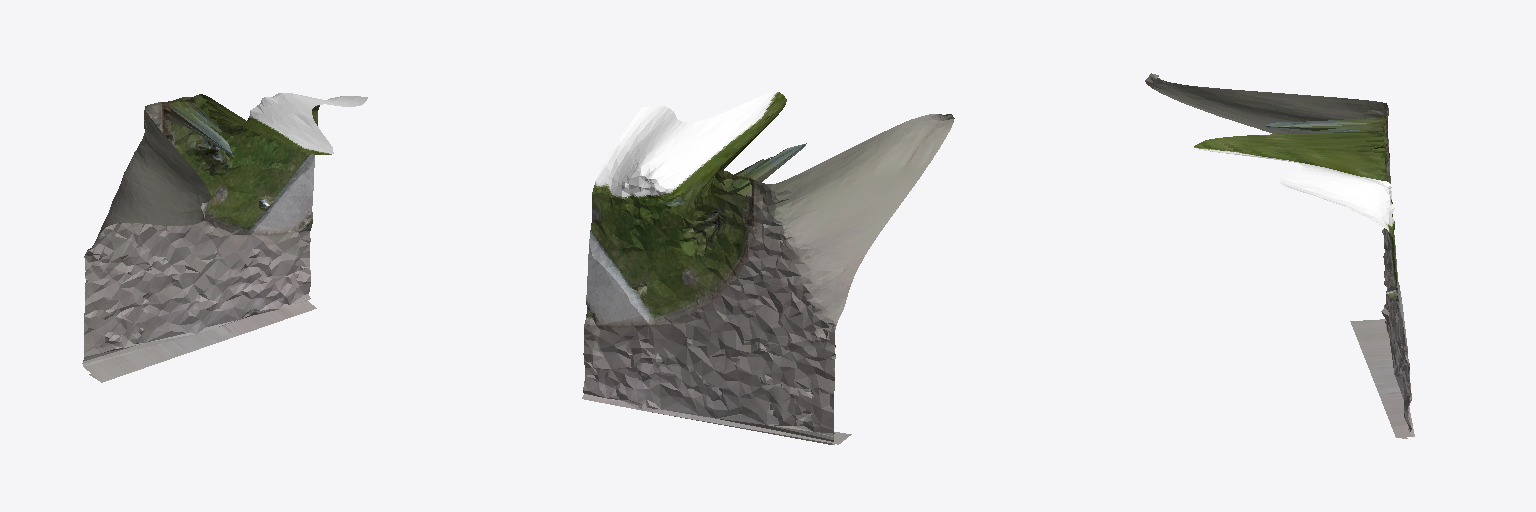
3 renders of one model, left to right at view 1: azimuth 30°, elevation 25°; view 2: azimuth 150°, elevation 25°; view 3: azimuth 270°, elevation 25°, orthographic.
Parts seen in each view (by area): view 1: grp1; view 2: grp1; view 3: grp1.
Part boxes in pixels (x1,y1,x2,y2): grp1: (82,93,367,382); grp1: (582,92,954,444); grp1: (1145,73,1414,438).
Size of the model in its own units: 10 by 10 by 9.82.
Materials: 1 (1 with a texture image).